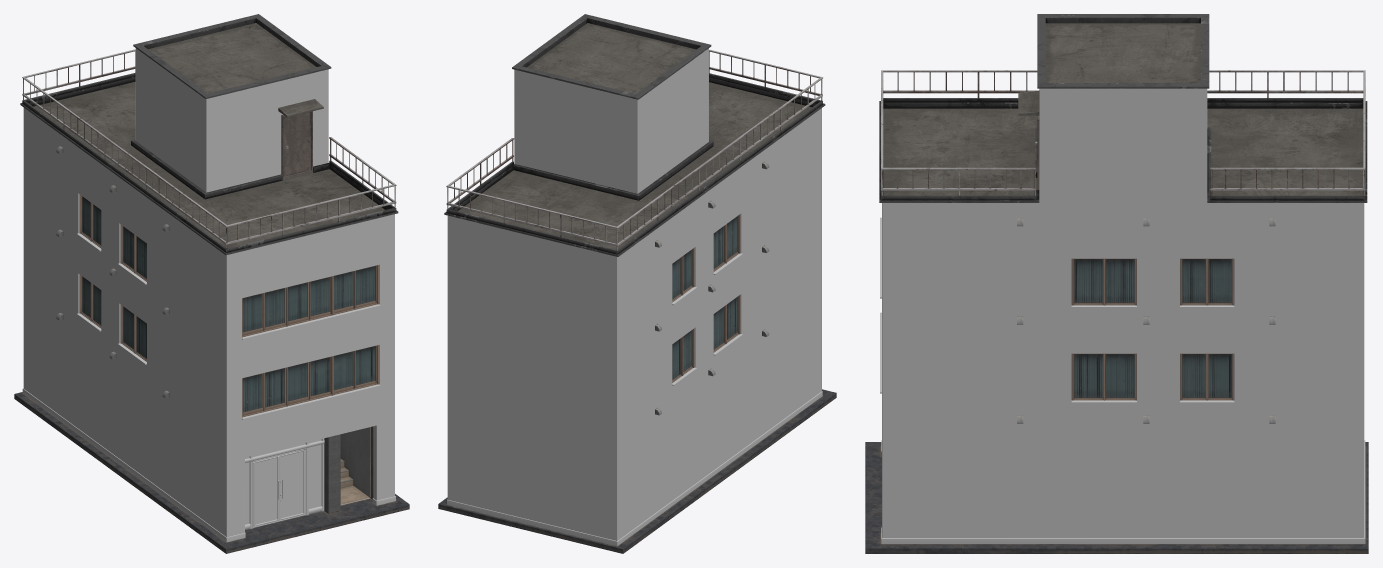
Rendered from BldE.fbx.
3 renders of one model, left to right at view 1: azimuth 30°, elevation 25°; view 2: azimuth 150°, elevation 25°; view 3: azimuth 270°, elevation 25°, orthographic. The views are drawn at different scales.
Visible parts, largest first — view 1: BldE_LOD0; view 2: BldE_LOD0; view 3: BldE_LOD0.
Part boxes in pixels (box(x1,y1,x2,y2)): BldE_LOD0: box(14, 14, 409, 553); BldE_LOD0: box(438, 14, 836, 553); BldE_LOD0: box(865, 14, 1368, 553).
Bounding box in the file's own units: 600 × 1220 × 1200.
